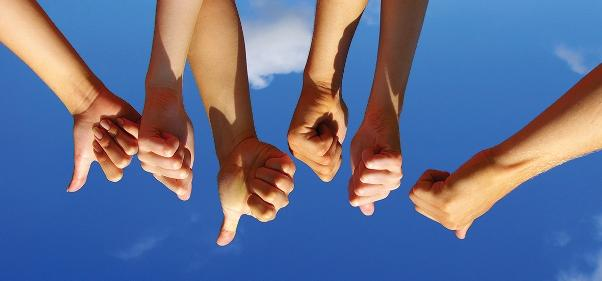thumbsdown: (211, 137, 296, 247), (63, 102, 140, 195)
